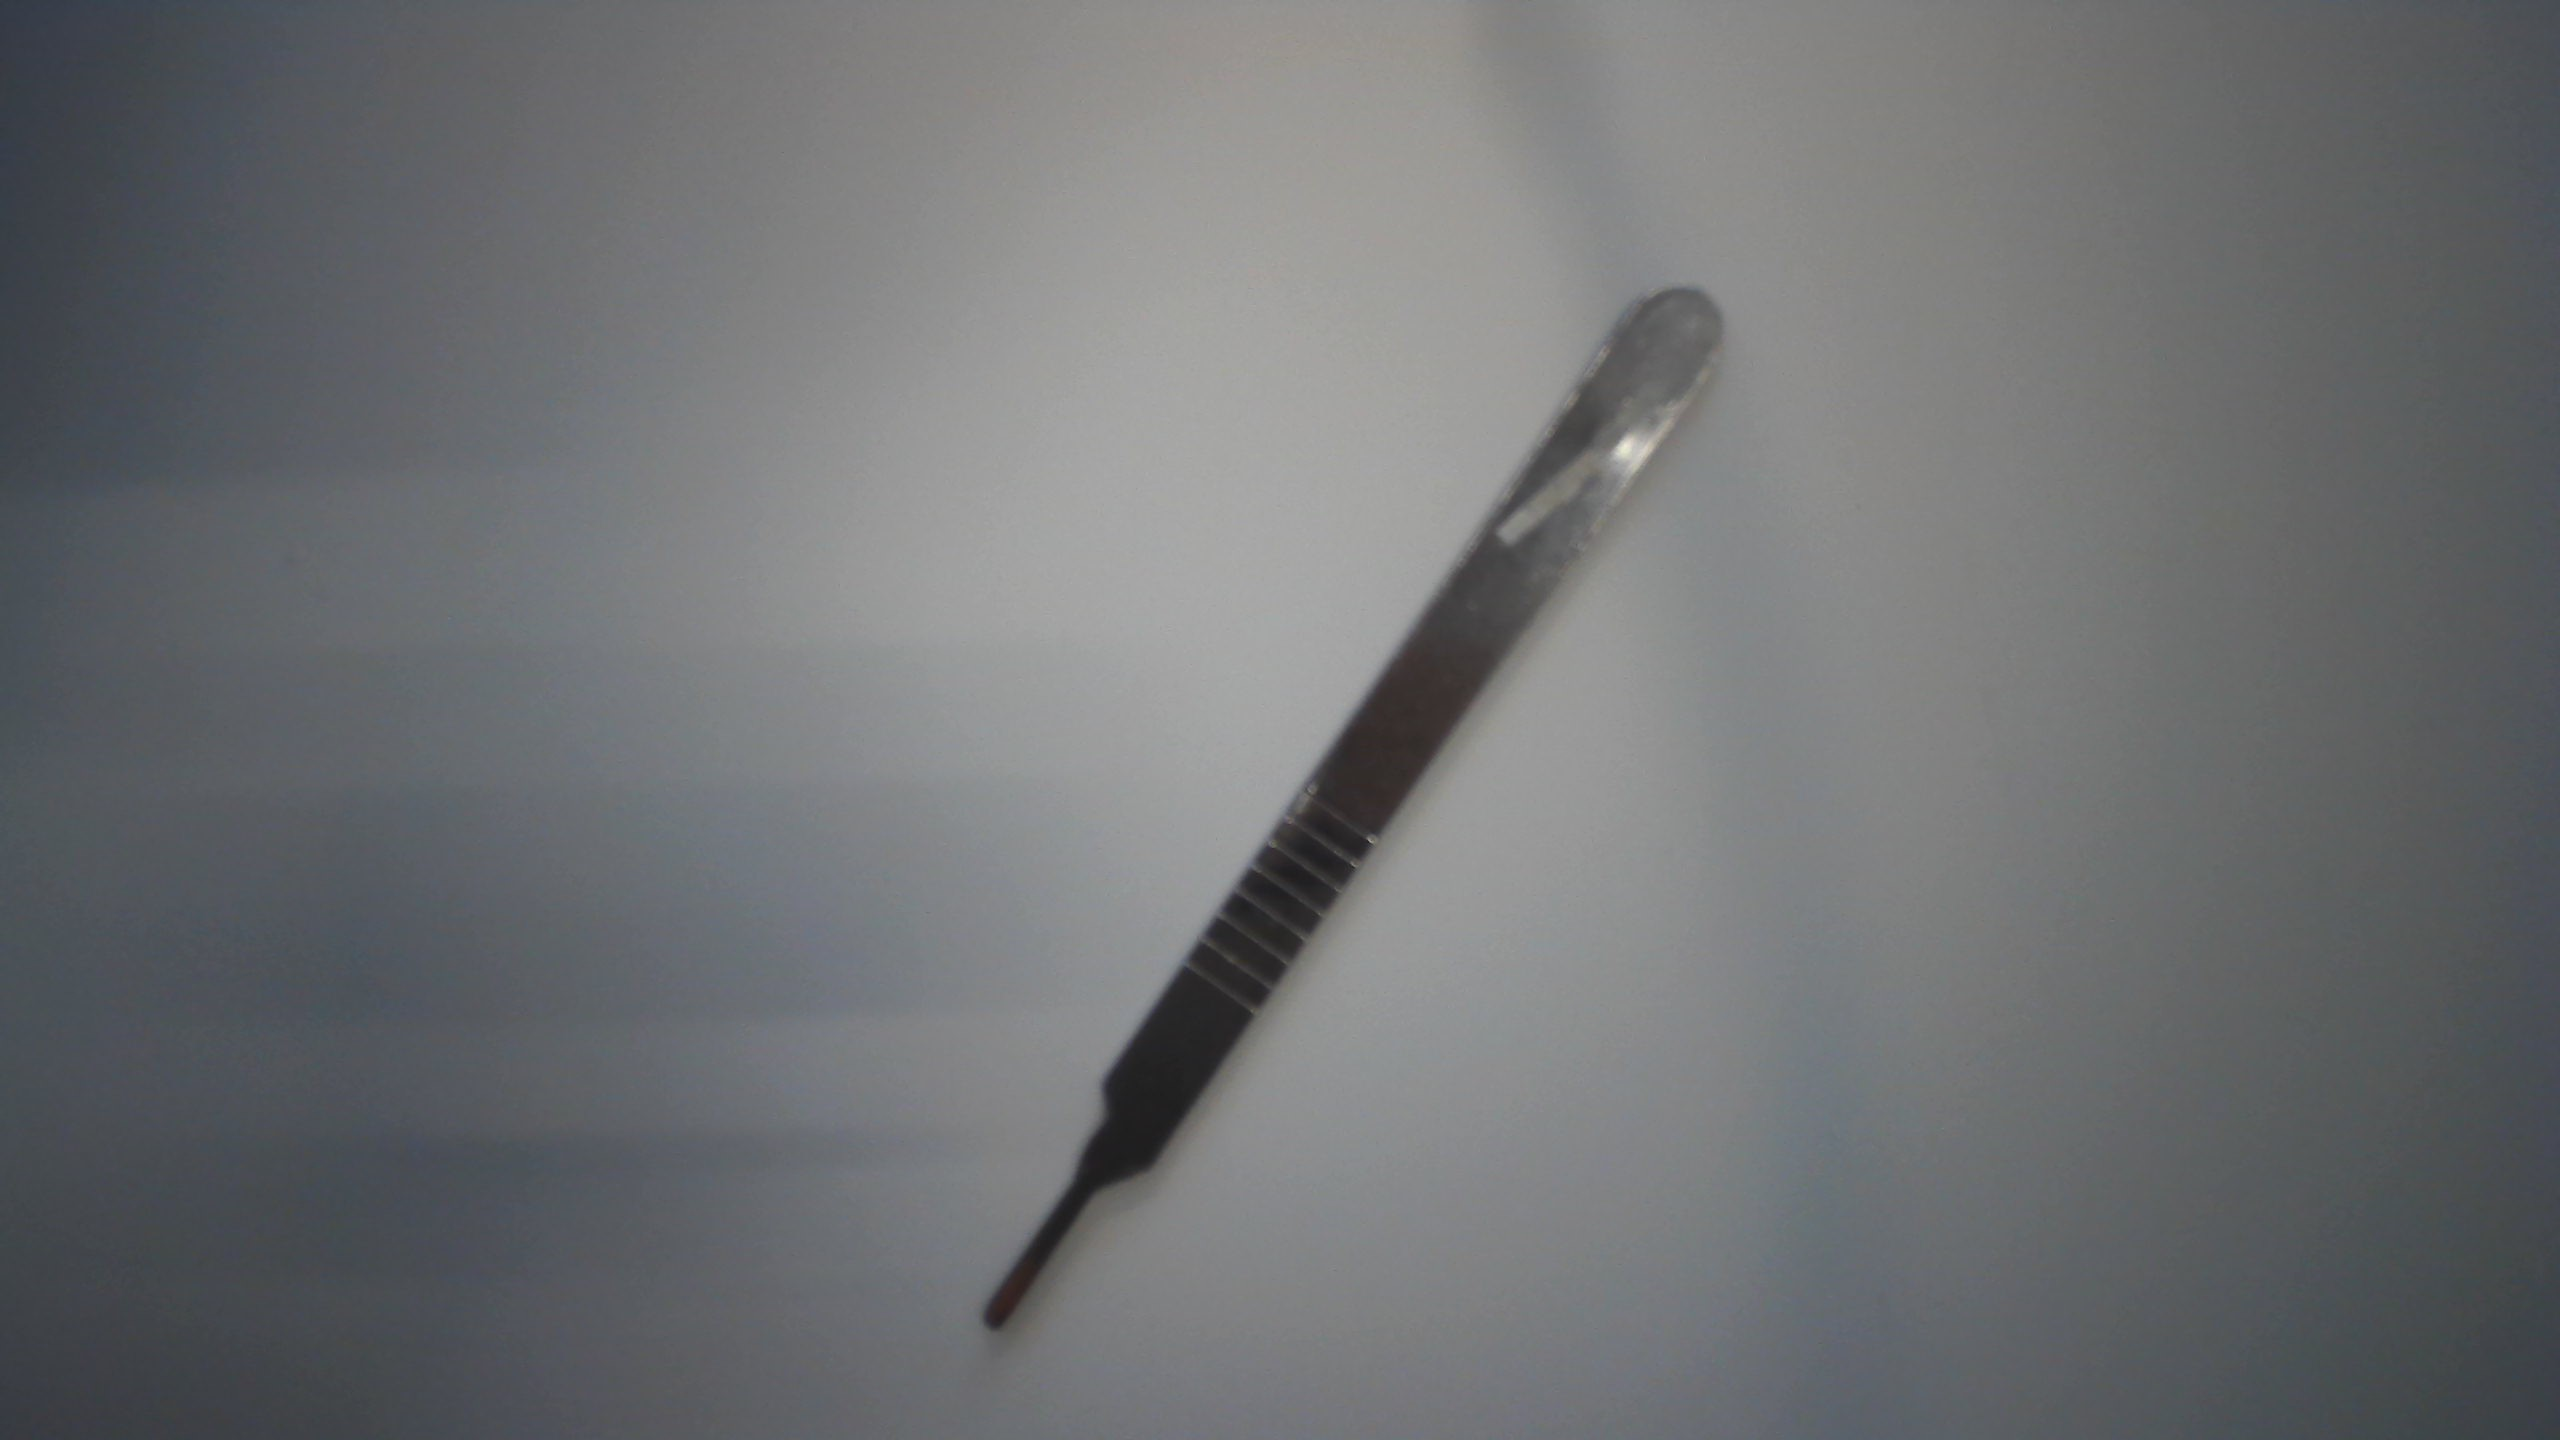Scratches: (1480, 383, 1677, 550)
